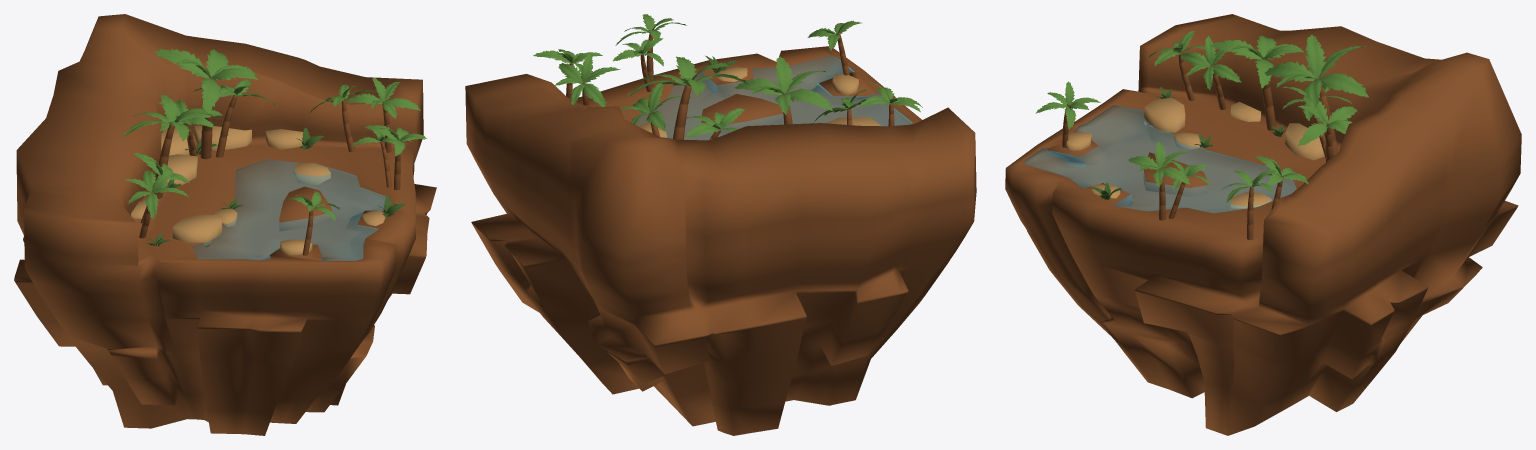
File: Oasis.glb
The picture shows the model from 3 angles, left to right: view 1: azimuth 30°, elevation 25°; view 2: azimuth 150°, elevation 25°; view 3: azimuth 270°, elevation 25°; orthographic projection. The views are drawn at different scales.
Visible parts, largest first — view 1: Cube.044, Cube.056, Cube.055, Plane.039, Cube.052, Plane.103, Plane.084, Plane.066, Plane.053, Plane.030, Cylinder.075, Plane.078 (+3 smaller); view 2: Cube.044, Cube.056, Plane.103, Cube.052, Plane.069, Cube.055, Plane.039, Plane.040, Plane.030, Plane.084, Plane.059, Plane.066 (+3 smaller); view 3: Cube.044, Cube.056, Cube.055, Plane.039, Plane.103, Plane.040, Plane.078, Cube.052, Plane.053, Plane.094, Plane.069, Plane.066 (+1 smaller).
Part boxes in pixels (left/top/right/bottom): Cube.044: left=14, top=14, right=436, bottom=435; Cube.056: left=192, top=159, right=392, bottom=261; Cube.055: left=131, top=125, right=385, bottom=255; Plane.039: left=154, top=48, right=258, bottom=113; Cube.052: left=279, top=186, right=331, bottom=231; Plane.103: left=123, top=95, right=219, bottom=141; Plane.084: left=125, top=170, right=188, bottom=219; Plane.066: left=347, top=77, right=420, bottom=118; Plane.053: left=365, top=125, right=426, bottom=156; Plane.030: left=157, top=99, right=222, bottom=131; Cylinder.075: left=216, top=96, right=237, bottom=157; Plane.078: left=133, top=152, right=189, bottom=187; Cube.044: left=465, top=46, right=976, bottom=435; Cube.056: left=636, top=56, right=912, bottom=139; Plane.103: left=734, top=56, right=832, bottom=114; Cube.052: left=701, top=94, right=783, bottom=133; Plane.069: left=554, top=53, right=620, bottom=106; Cube.055: left=638, top=67, right=880, bottom=137; Plane.039: left=626, top=56, right=748, bottom=97; Plane.040: left=620, top=83, right=693, bottom=131; Plane.030: left=686, top=108, right=744, bottom=137; Plane.084: left=860, top=81, right=922, bottom=112; Plane.059: left=613, top=37, right=663, bottom=66; Plane.066: left=533, top=49, right=602, bottom=72; Cube.044: left=1005, top=14, right=1521, bottom=435; Cube.056: left=1025, top=105, right=1296, bottom=212; Cube.055: left=1066, top=97, right=1324, bottom=208; Plane.039: left=1264, top=34, right=1368, bottom=107; Plane.103: left=1210, top=35, right=1303, bottom=88; Plane.040: left=1298, top=95, right=1357, bottom=146; Plane.078: left=1181, top=36, right=1241, bottom=89; Cube.052: left=1143, top=152, right=1207, bottom=196; Plane.053: left=1128, top=141, right=1190, bottom=187; Plane.094: left=1035, top=81, right=1100, bottom=129; Plane.069: left=1255, top=156, right=1309, bottom=185; Plane.066: left=1221, top=169, right=1276, bottom=203.
Bounding box in the file's own units: 6.53 × 4.8 × 6.51.
